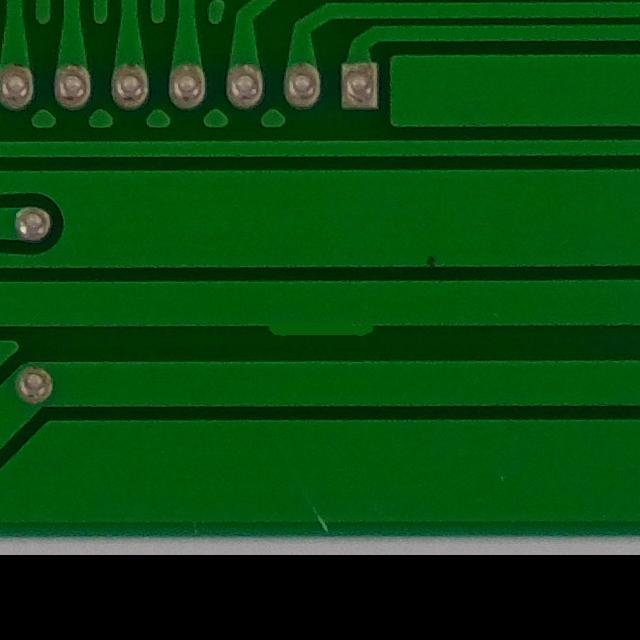spur: (253, 290, 387, 351)
